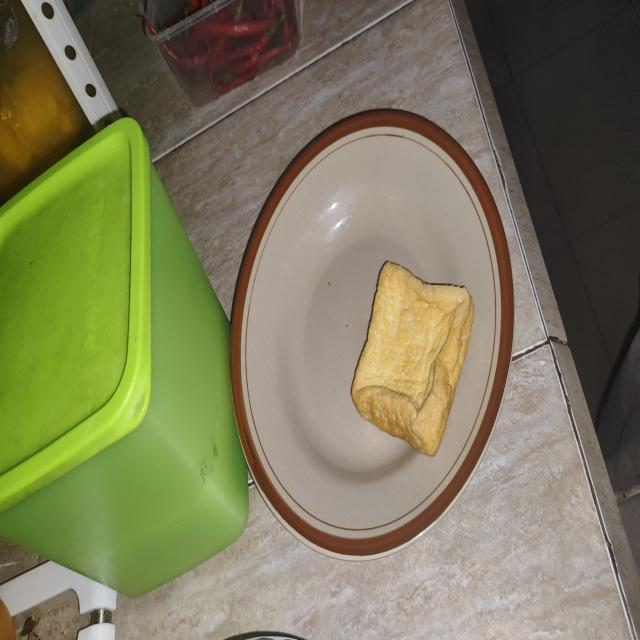tahu_goreng: (351, 261, 474, 456)
